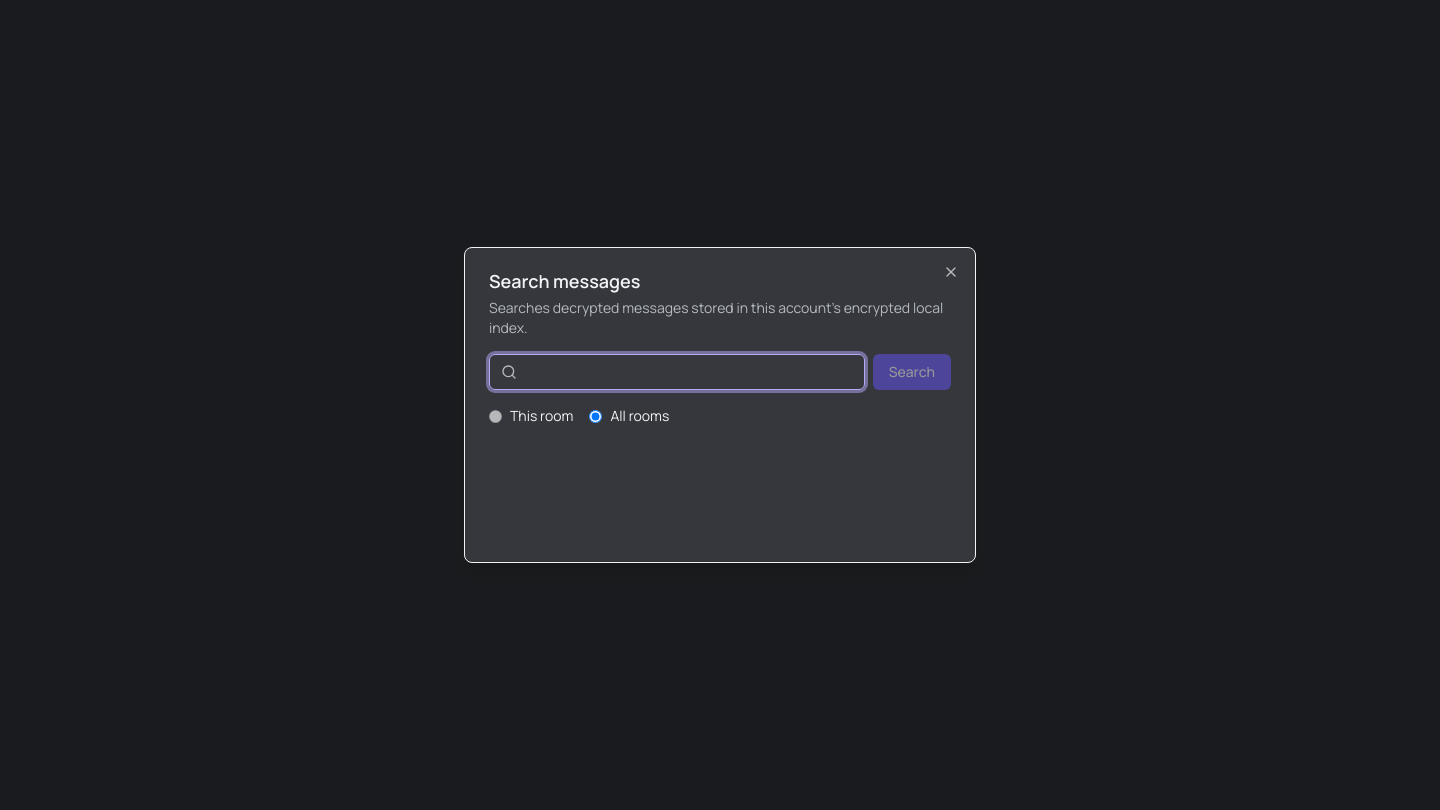
Test case: MessageSearchDialog › discloses an incomplete local index
In the search field named "Message search query": (677, 372) left=489, top=354, right=865, bottom=390, type "history"
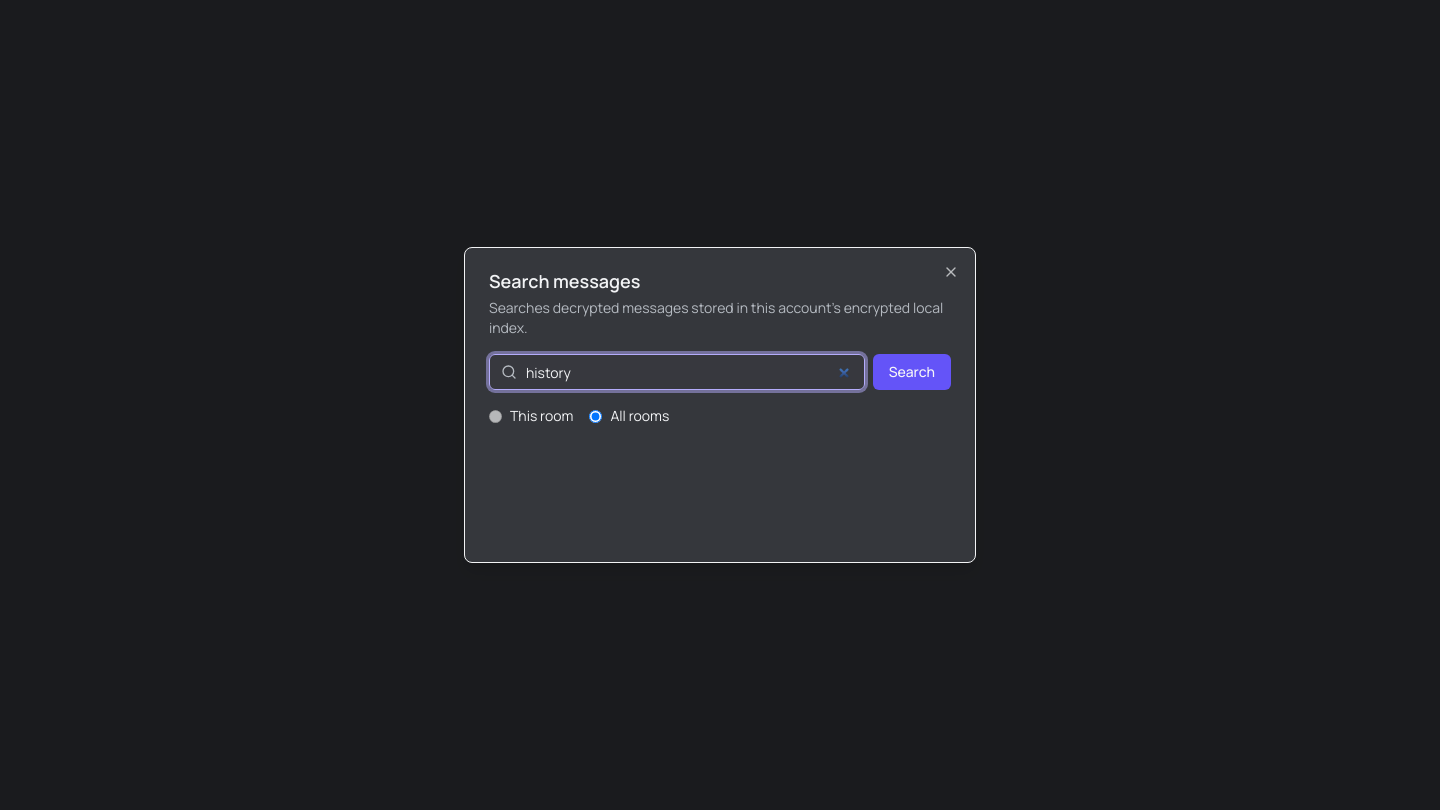
Click the button "Search": (912, 372) left=873, top=354, right=951, bottom=390
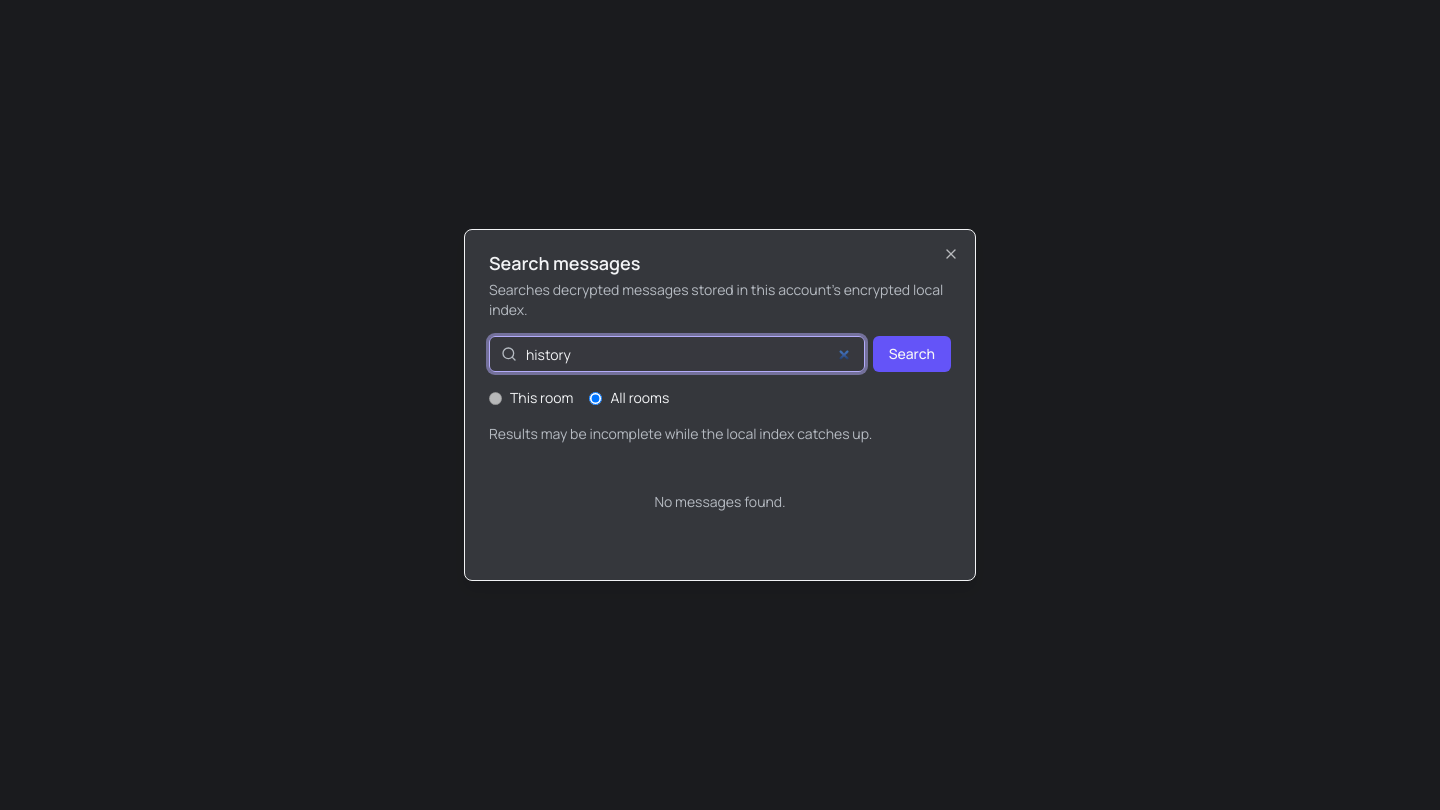
Result: the text "Results may be incomplete while the local index catches up." is shown at left=489, top=424, right=872, bottom=443
